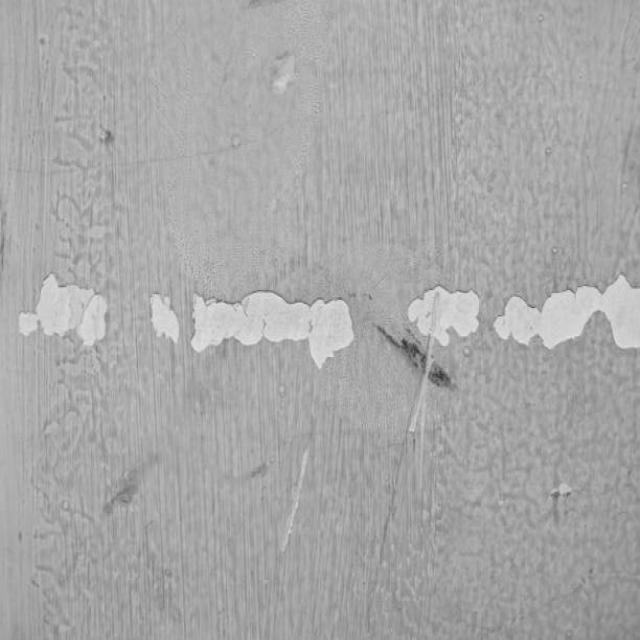peeling paint: (8, 232, 640, 570), (263, 32, 308, 105)
